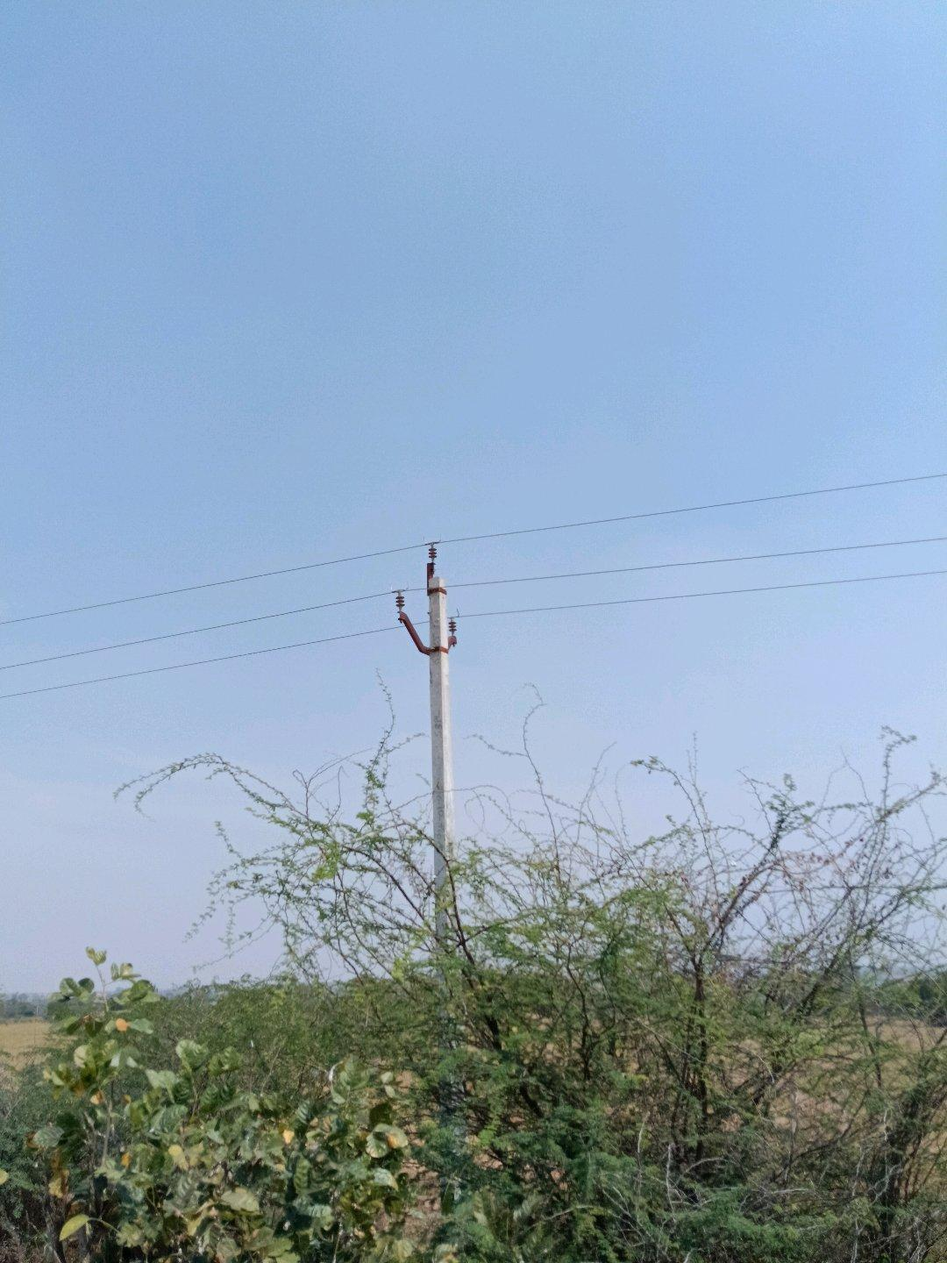{"0" "insulator", "1" "pole", "2" "crossarm", "3" "conductor", "4" "street_: (395, 546, 457, 942)
